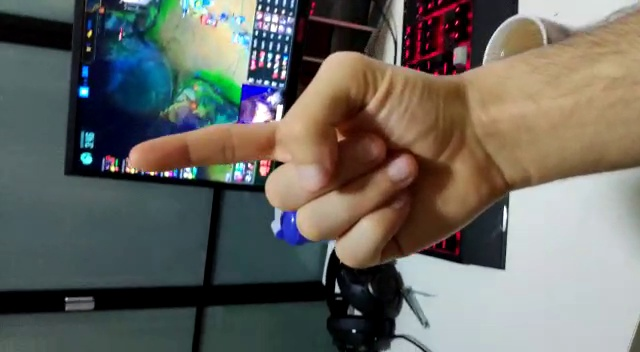One: (120, 110, 367, 183)
